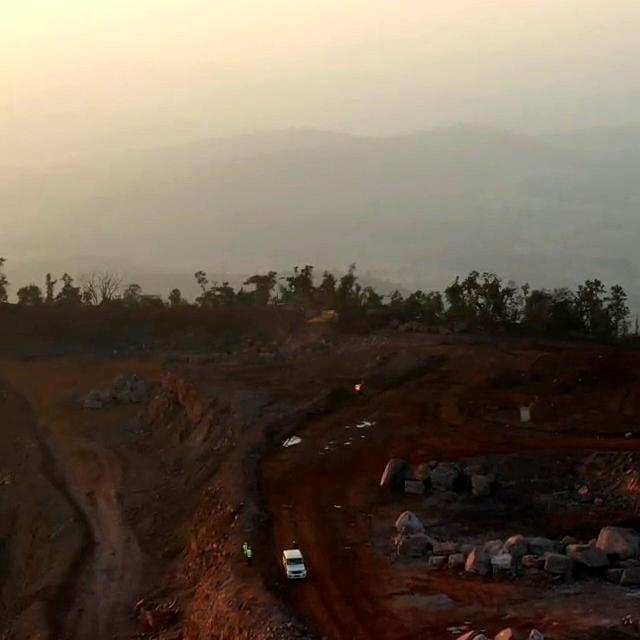car: (284, 549, 306, 579)
person: (240, 542, 254, 564)
